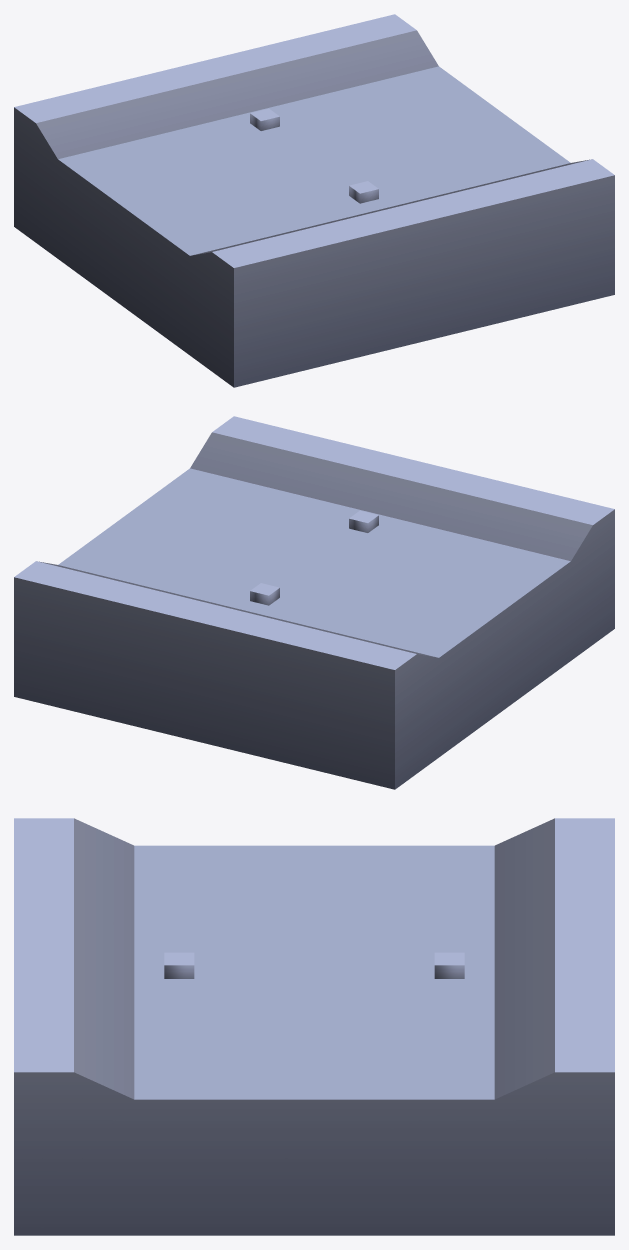
File: floor-panel-straight.glb
The picture shows the model from 3 angles, top to bottom: view 1: azimuth 30°, elevation 25°; view 2: azimuth 150°, elevation 25°; view 3: azimuth 270°, elevation 25°; orthographic projection. The views are drawn at different scales.
Parts seen in each view (by area): view 1: floor-panel-straight; view 2: floor-panel-straight; view 3: floor-panel-straight.
Boxes of the visible parts, box(x1,y1,x2,y2) form: floor-panel-straight: box(14, 14, 614, 387); floor-panel-straight: box(14, 416, 614, 789); floor-panel-straight: box(14, 818, 614, 1235).
Bounding box in the file's own units: 1 × 0.3 × 1.
Materials: 1 (1 with a texture image).
